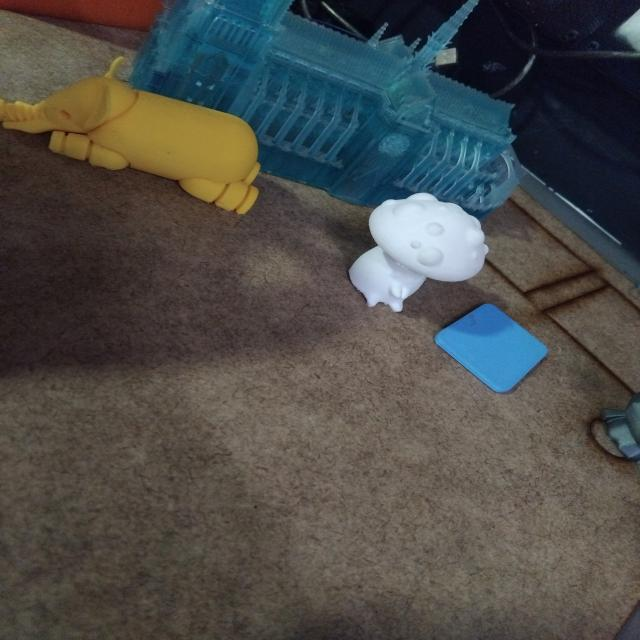Hongo: (332, 188, 502, 322)
